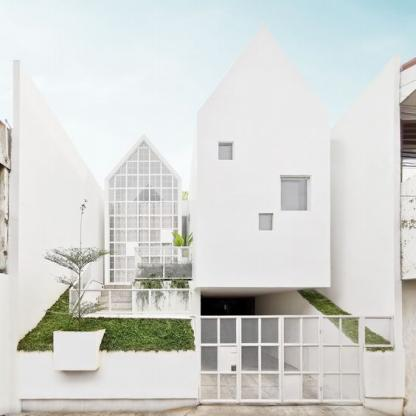Balcony: (134, 246, 193, 280)
Building Outline: (7, 23, 395, 415)
Facade: (104, 23, 331, 315)
Floor Slab: (133, 281, 330, 287)
Glass Wall: (109, 141, 178, 282)
Window: (282, 179, 308, 211), (182, 216, 187, 258), (219, 144, 232, 160), (259, 214, 271, 230)
